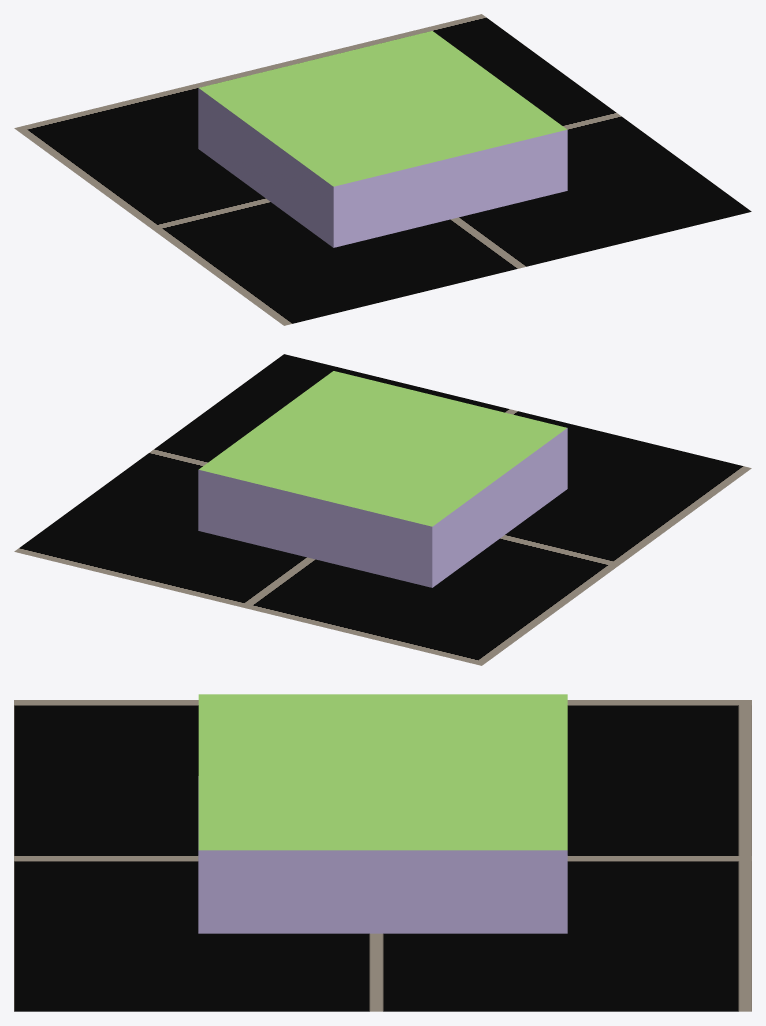
File: Grass_Flat_1x1.glb
The picture shows the model from 3 angles, top to bottom: view 1: azimuth 30°, elevation 25°; view 2: azimuth 150°, elevation 25°; view 3: azimuth 270°, elevation 25°; orthographic projection. The views are drawn at different scales.
Parts seen in each view (by area): view 1: Floor, Grass_Flat_1x1; view 2: Floor, Grass_Flat_1x1; view 3: Floor, Grass_Flat_1x1.
Part boxes in pixels (x1,y1,x2,y2): Floor: [14, 14, 751, 325]; Grass_Flat_1x1: [198, 31, 567, 247]; Floor: [14, 354, 751, 665]; Grass_Flat_1x1: [198, 371, 567, 587]; Floor: [14, 700, 751, 1011]; Grass_Flat_1x1: [198, 694, 567, 933].
Bounding box in the file's own units: 200 × 25 × 200.
Materials: 4 (1 with a texture image).
